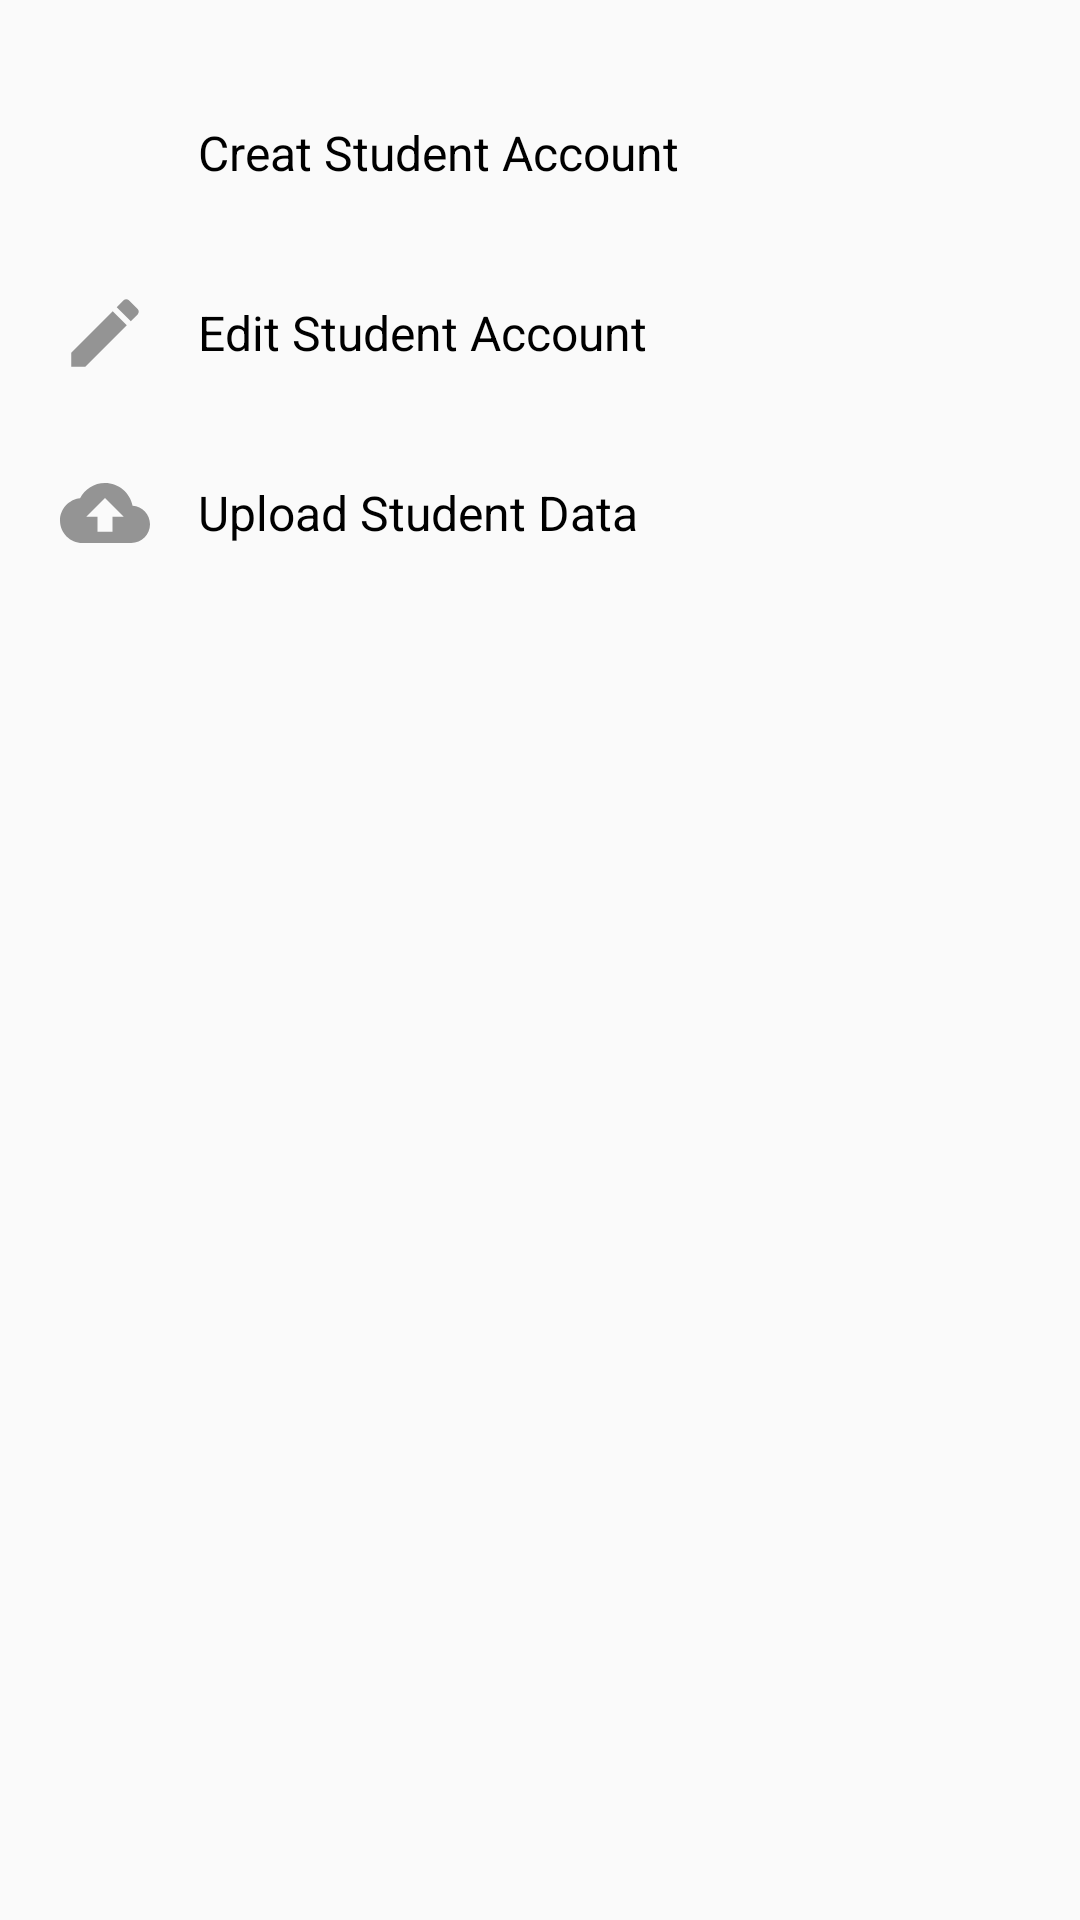

Screen size 1080px×1920px. Icon name, then its center in pixels as (x=x, y=y):
cloud upload: (x=105, y=513)
